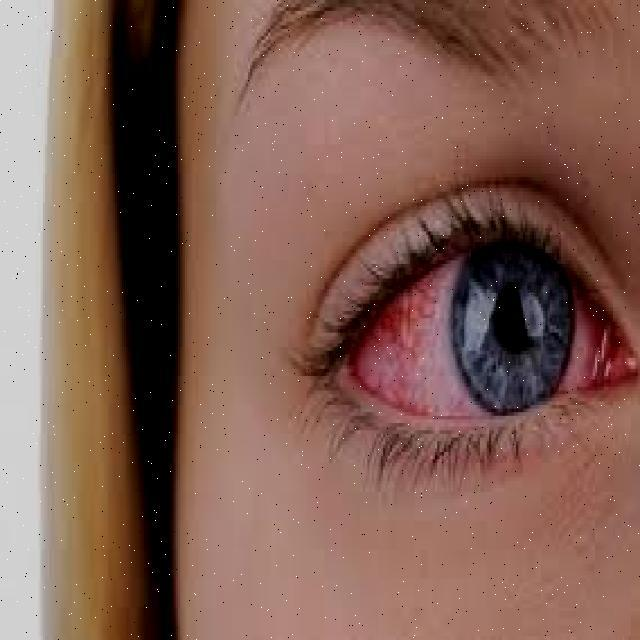Conjunctivitis: (345, 291, 640, 408)
